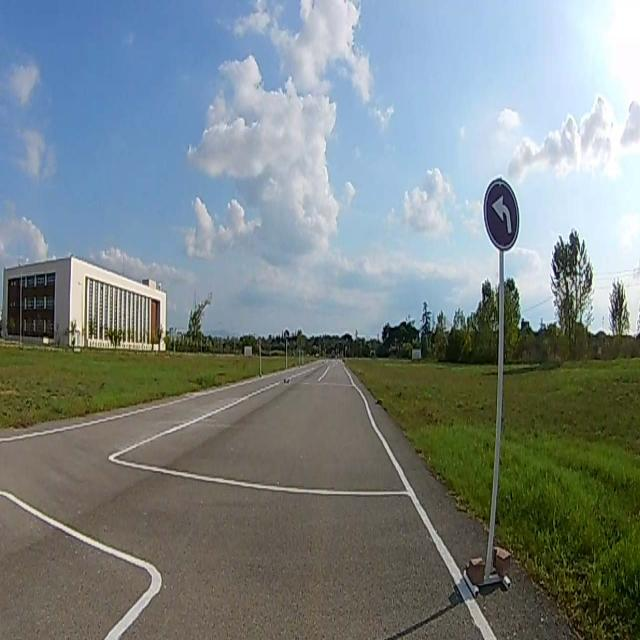sol: (485, 176, 520, 251)
